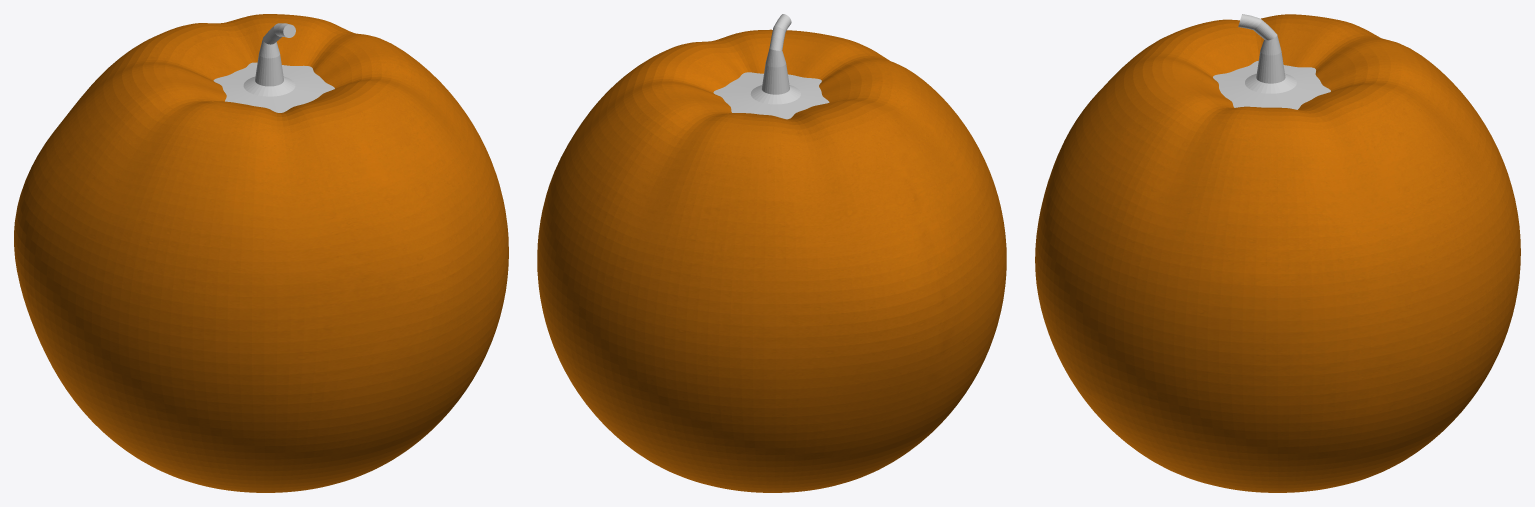
File: NARANJA.fbx
3 renders of one model, left to right at view 1: azimuth 30°, elevation 25°; view 2: azimuth 150°, elevation 25°; view 3: azimuth 270°, elevation 25°, orthographic. The views are drawn at different scales.
Visible parts, largest first — view 1: Sphere, Cylinder; view 2: Sphere, Cylinder; view 3: Sphere, Cylinder.
Part boxes in pixels (x1=…): Sphere: x1=14, y1=14, x2=508, y2=492; Cylinder: x1=213, y1=23, x2=334, y2=112; Sphere: x1=537, y1=29, x2=1006, y2=492; Cylinder: x1=713, y1=14, x2=829, y2=119; Sphere: x1=1035, y1=14, x2=1520, y2=492; Cylinder: x1=1213, y1=14, x2=1330, y2=109.
Bounding box in the file's own units: 343 × 343 × 341.
